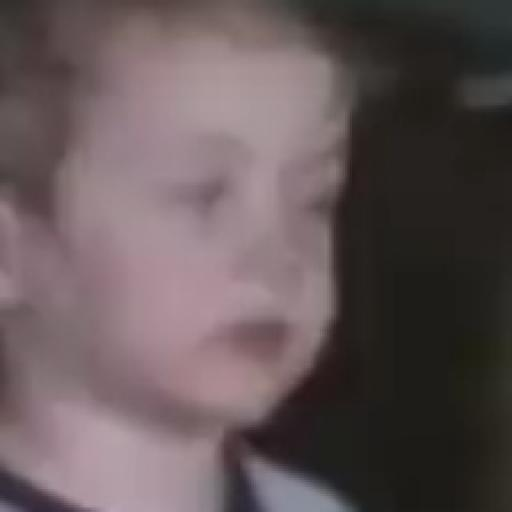Autism: (44, 31, 446, 432)
